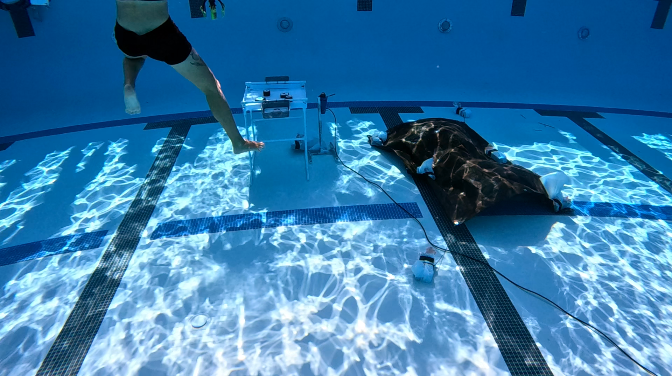sandbag: (373, 110, 575, 226)
